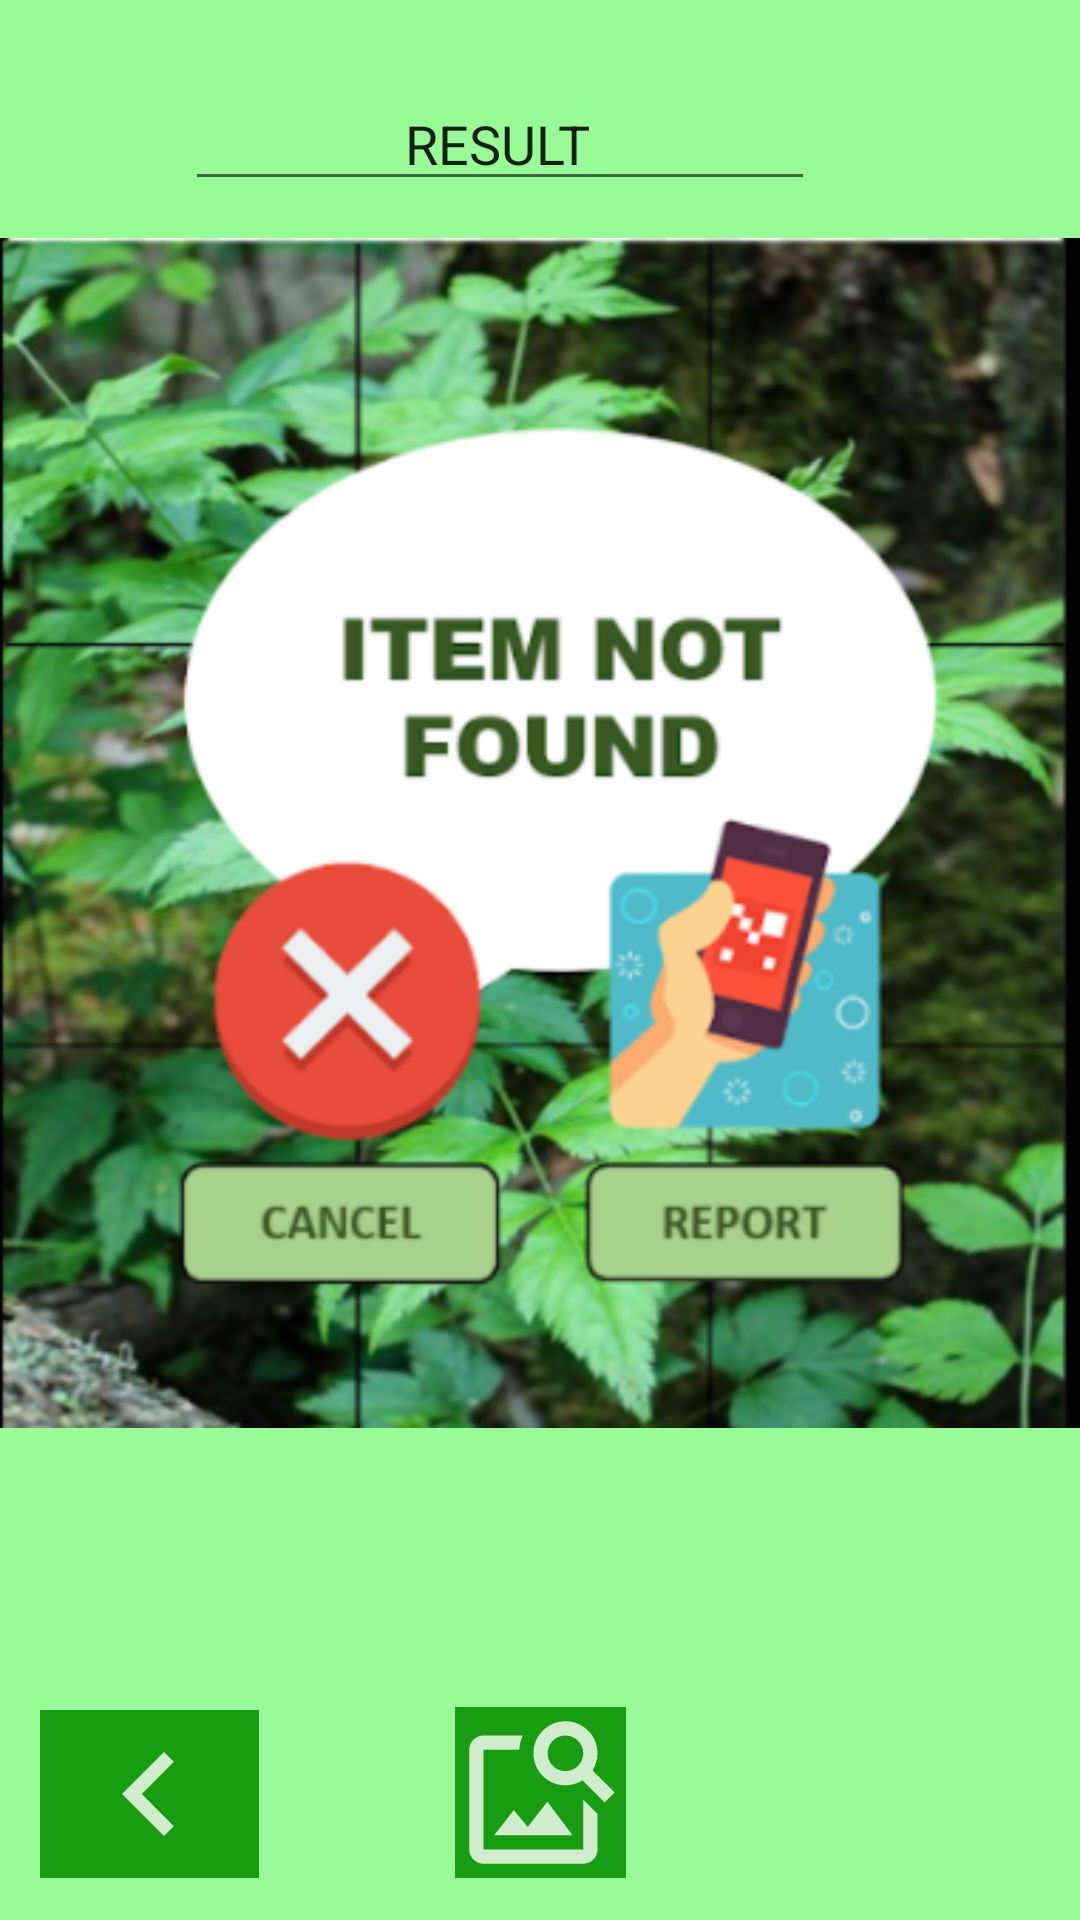

Named icons in this screenshot (1080px x 1920px) and their centers, [x,y]:
search: [540,1792]
